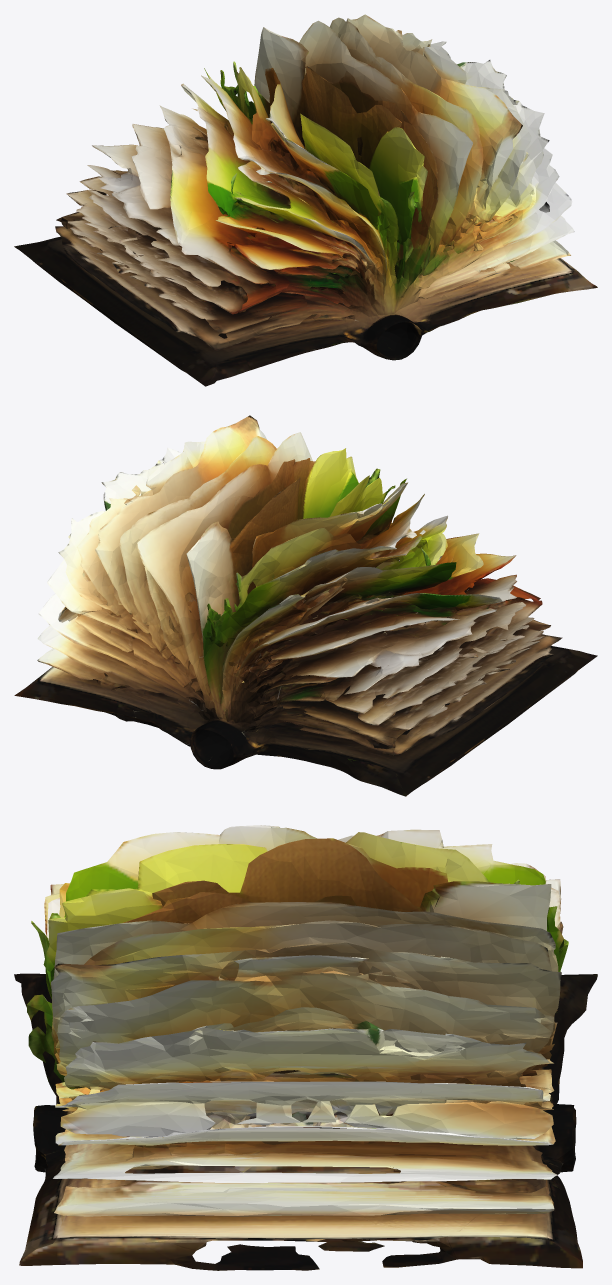
Rendered from recycled-paper-notebook-3d.jpeg.glb.
3 renders of one model, top to bottom at view 1: azimuth 30°, elevation 25°; view 2: azimuth 150°, elevation 25°; view 3: azimuth 270°, elevation 25°, orthographic. The views are drawn at different scales.
Visible parts, largest first — view 1: world; view 2: world; view 3: world.
Part boxes in pixels (box(x1,y1,x2,y2)): world: box(14, 14, 597, 386); world: box(14, 415, 597, 796); world: box(14, 825, 597, 1270).
Bounding box in the file's own units: 1 × 0.5346 × 0.8379.
1 material, 1 textured.
